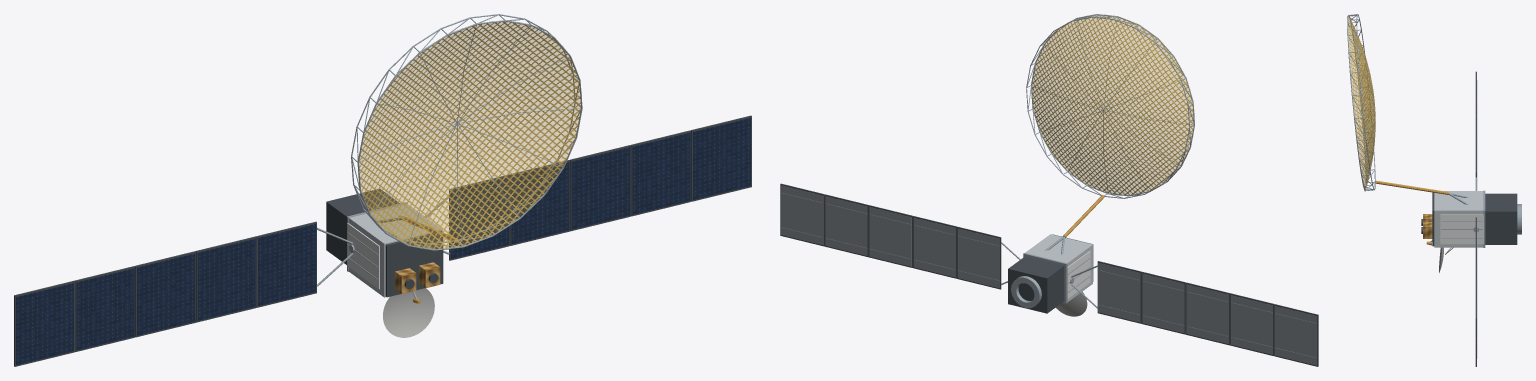
The model's file is ref-hs-gem-26578.glb.
The picture shows the model from 3 angles, left to right: view 1: azimuth 30°, elevation 25°; view 2: azimuth 150°, elevation 25°; view 3: azimuth 270°, elevation 25°; orthographic projection. The views are drawn at different scales.
Visible parts, largest first — view 1: Solar cell panel (×10), Deployable mesh reflector, Payload module, Earth-facing deck, Communications reflector, Service module, Radiator face, Solar panel frame; view 2: Deployable mesh reflector, Rear array substrate (×10), Service module, Payload module, Radiator face, Launch adapter ring, Communications reflector; view 3: Deployable mesh reflector, Service module, Payload module, Radiator face, Reflector deployment boom, Communications feed assembly, Earth-facing deck, Launch adapter ring.
Part boxes in pixels (x1=…): Solar cell panel (×10): x1=16, y1=118, x2=750, y2=365; Deployable mesh reflector: x1=358, y1=21, x2=581, y2=249; Payload module: x1=349, y1=204, x2=442, y2=297; Earth-facing deck: x1=385, y1=231, x2=443, y2=297; Communications reflector: x1=383, y1=288, x2=434, y2=337; Service module: x1=326, y1=188, x2=399, y2=264; Radiator face: x1=347, y1=223, x2=379, y2=289; Solar panel frame: x1=630, y1=130, x2=691, y2=216; Deployable mesh reflector: x1=1032, y1=14, x2=1194, y2=195; Rear array substrate (×10): x1=781, y1=185, x2=1317, y2=365; Service module: x1=1008, y1=256, x2=1064, y2=313; Payload module: x1=1025, y1=234, x2=1092, y2=301; Radiator face: x1=1067, y1=251, x2=1090, y2=299; Launch adapter ring: x1=1011, y1=276, x2=1041, y2=308; Communications reflector: x1=1055, y1=291, x2=1087, y2=316; Deployable mesh reflector: x1=1347, y1=17, x2=1375, y2=189; Service module: x1=1485, y1=193, x2=1517, y2=244; Payload module: x1=1434, y1=191, x2=1483, y2=247; Radiator face: x1=1440, y1=214, x2=1483, y2=244; Reflector deployment boom: x1=1375, y1=180, x2=1448, y2=194; Communications feed assembly: x1=1423, y1=222, x2=1432, y2=238; Earth-facing deck: x1=1432, y1=192, x2=1434, y2=246; Launch adapter ring: x1=1517, y1=204, x2=1521, y2=234.
Bounding box in the file's own units: 40.37 × 19.03 × 12.08.
10 materials, 3 textured.
